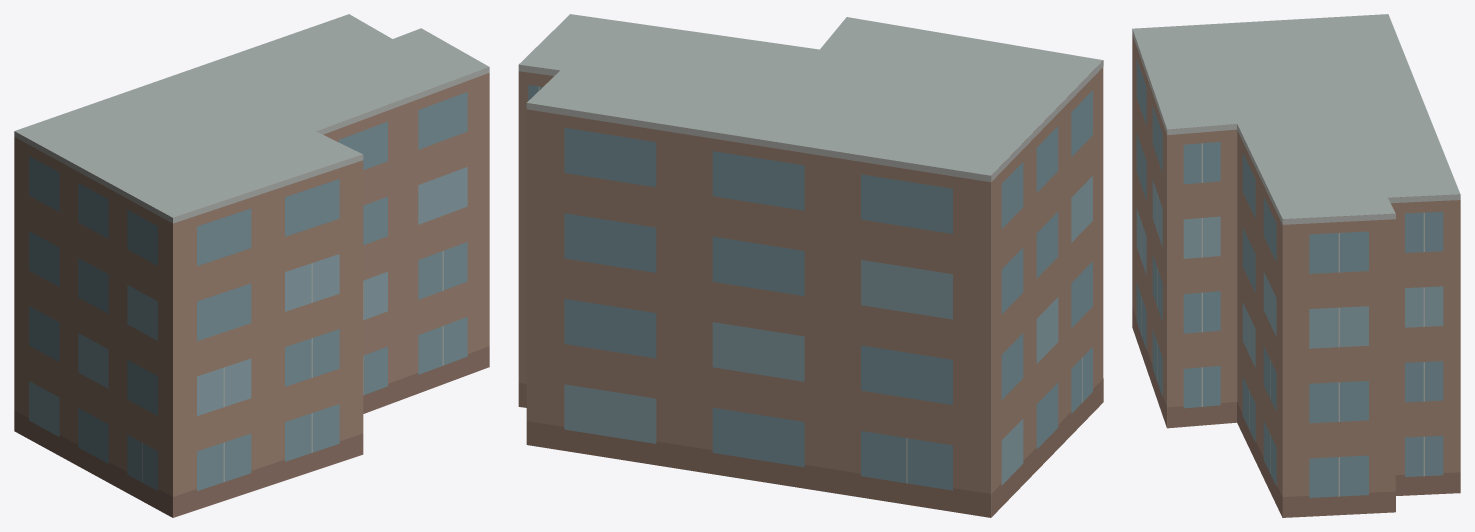
The model's file is survey-upis-32894482.glb.
3 renders of one model, left to right at view 1: azimuth 30°, elevation 25°; view 2: azimuth 150°, elevation 25°; view 3: azimuth 270°, elevation 25°, orthographic. The views are drawn at different scales.
Parts seen in each view (by area): view 1: survey-upis-32894482.tmp; view 2: survey-upis-32894482.tmp; view 3: survey-upis-32894482.tmp.
Part boxes in pixels (x1,y1,x2,y2): survey-upis-32894482.tmp: (14, 14, 489, 517); survey-upis-32894482.tmp: (518, 14, 1103, 517); survey-upis-32894482.tmp: (1132, 14, 1460, 517).
Bounding box in the file's own units: 18.86 × 12.8 × 12.75.
